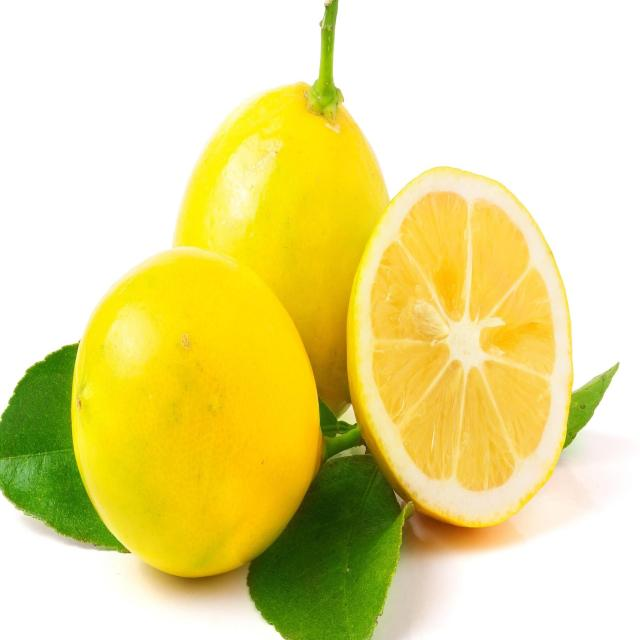lemon: (339, 156, 579, 538), (68, 241, 327, 587)
